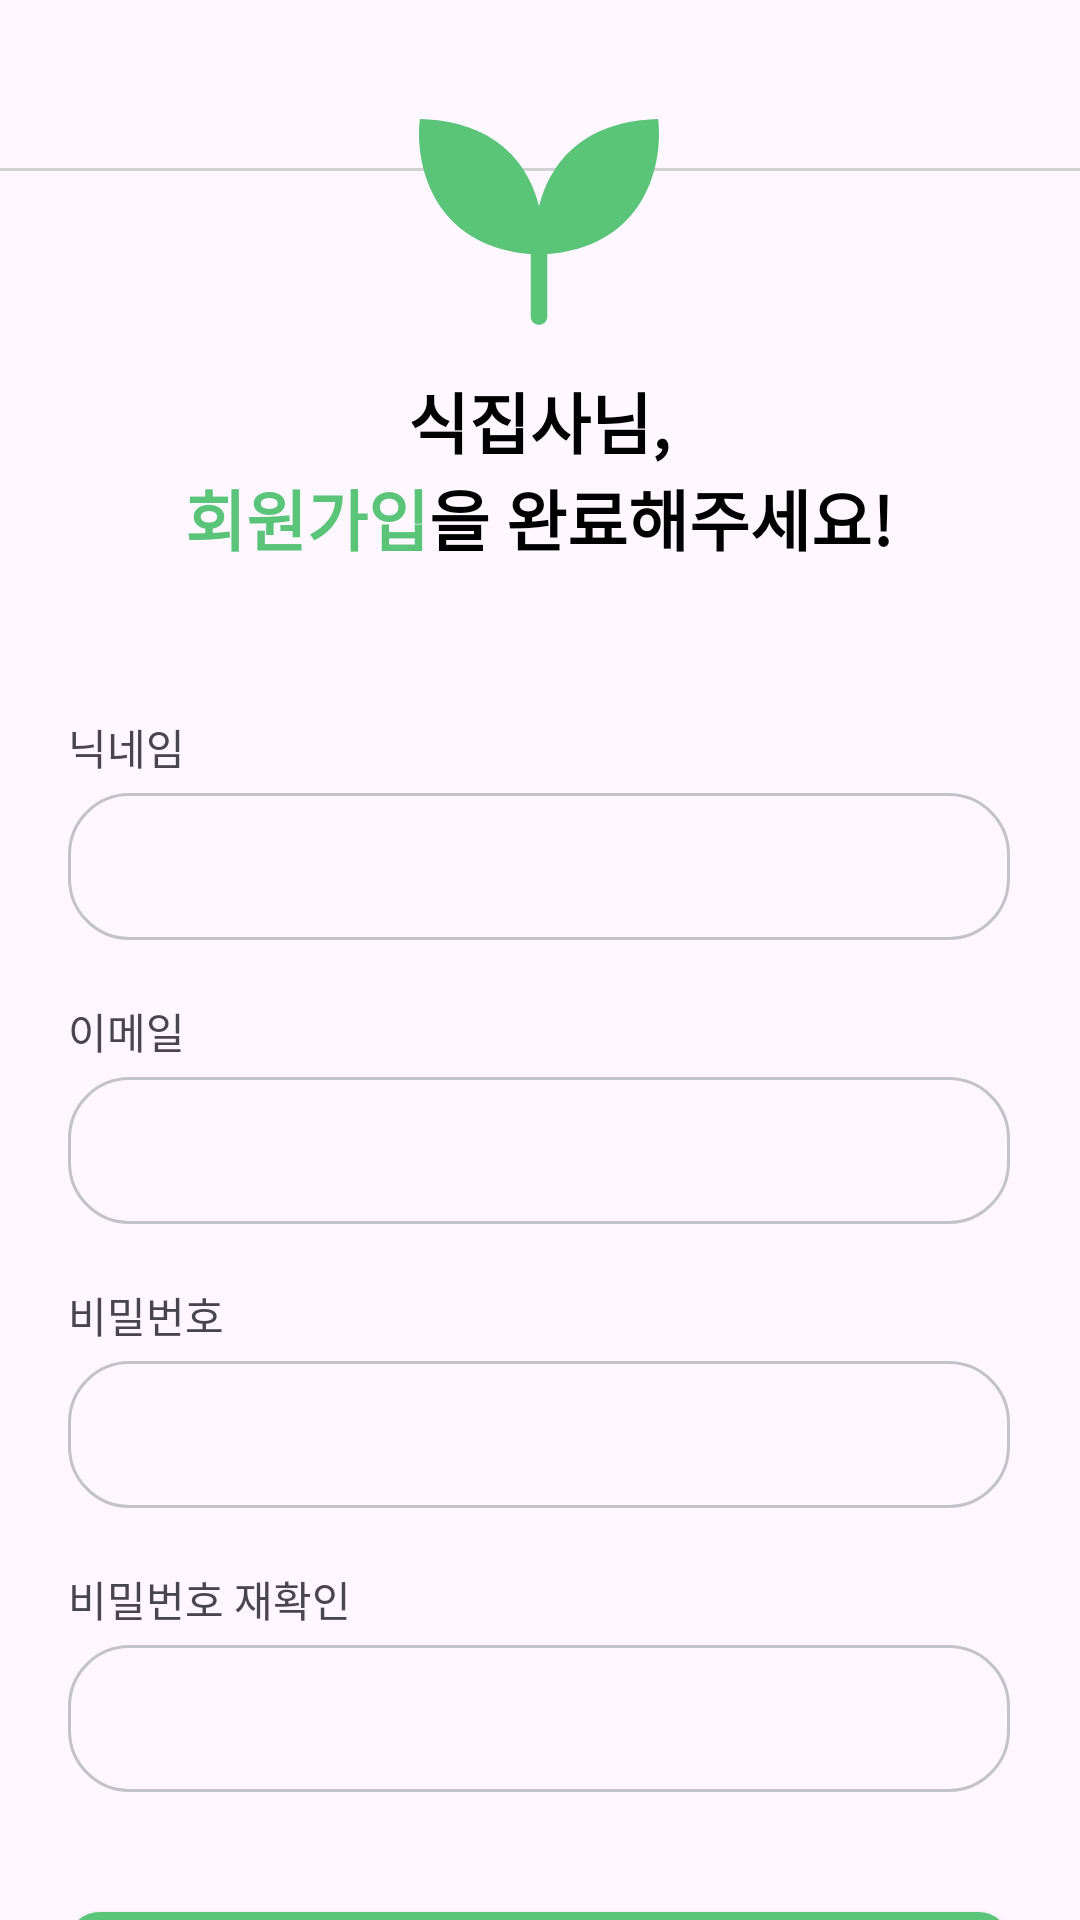

Point at icon controls on the screen. Image size 1080 × 1920, points as (x=x, y=y).
login sprout: (x=539, y=222)
